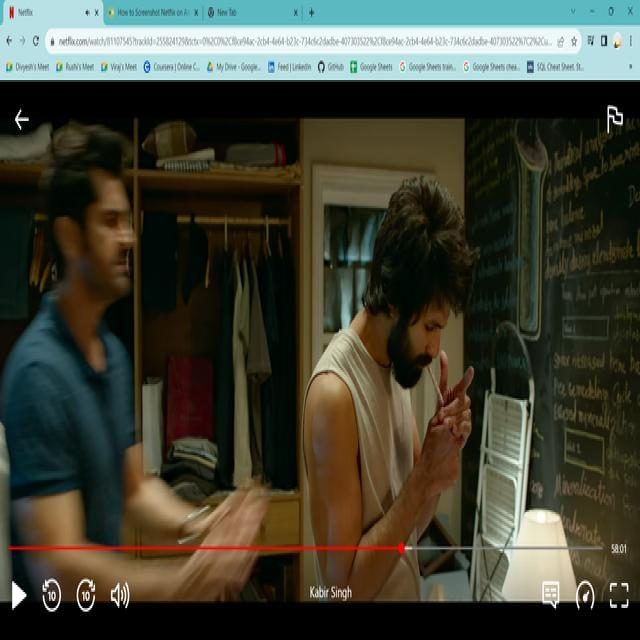smoking: (412, 344, 451, 414)
